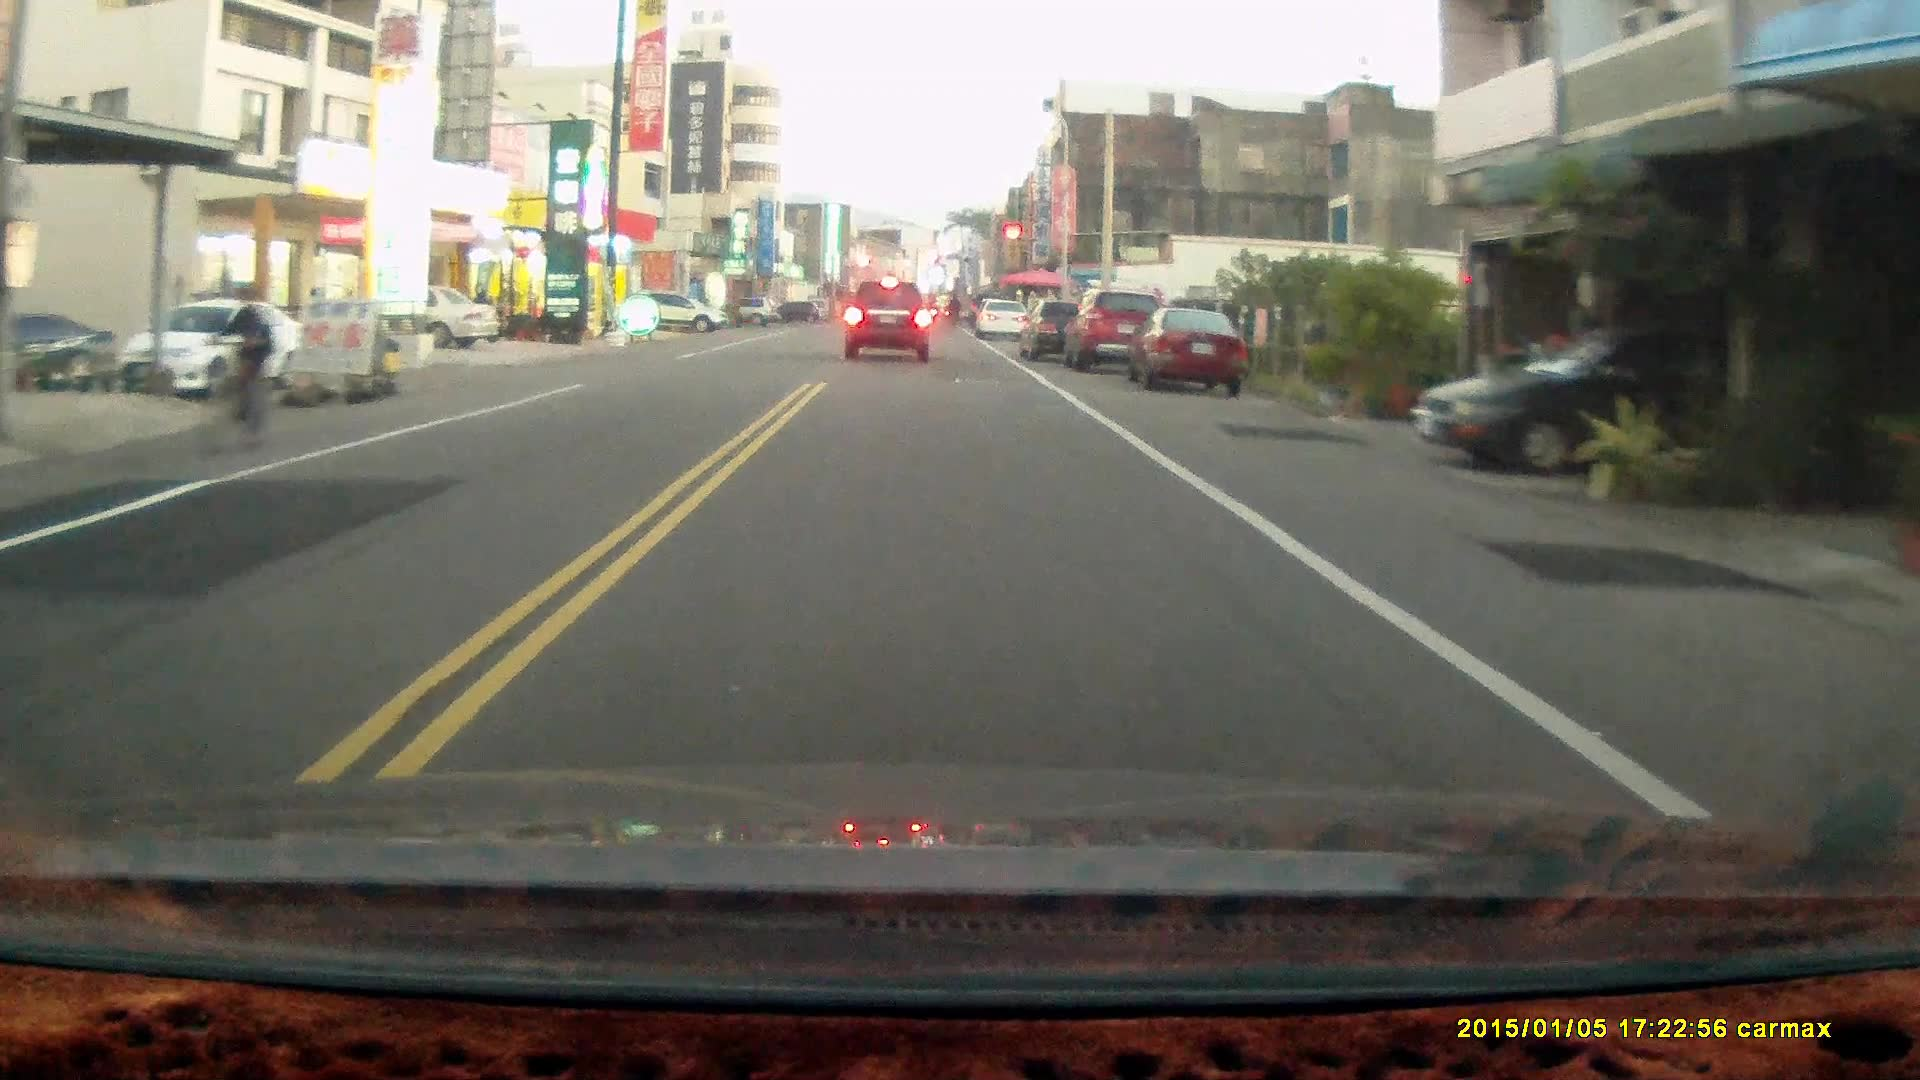rider: (195, 281, 278, 465)
vehicle: (1414, 318, 1825, 472), (121, 291, 312, 393), (1123, 303, 1256, 398), (327, 282, 503, 354), (1067, 289, 1172, 371), (844, 279, 933, 363), (1021, 297, 1111, 360), (638, 289, 728, 332)
